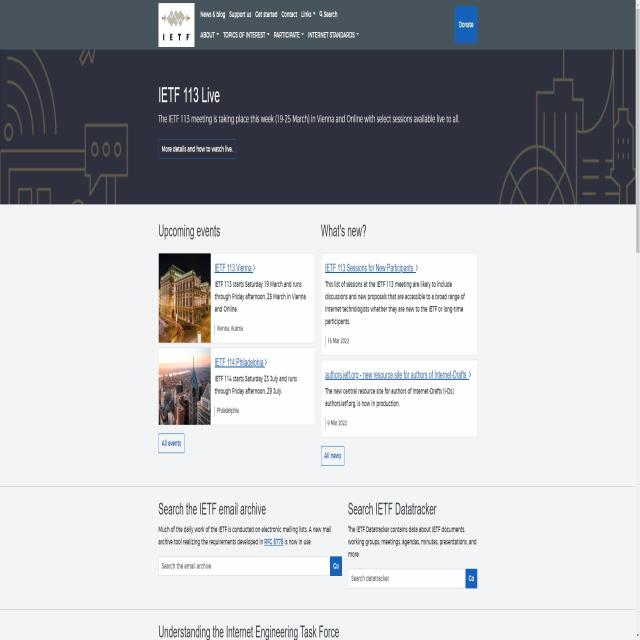search: (157, 554, 342, 580), (346, 567, 479, 591)
tab-bar: (198, 4, 340, 23), (198, 27, 358, 41)
